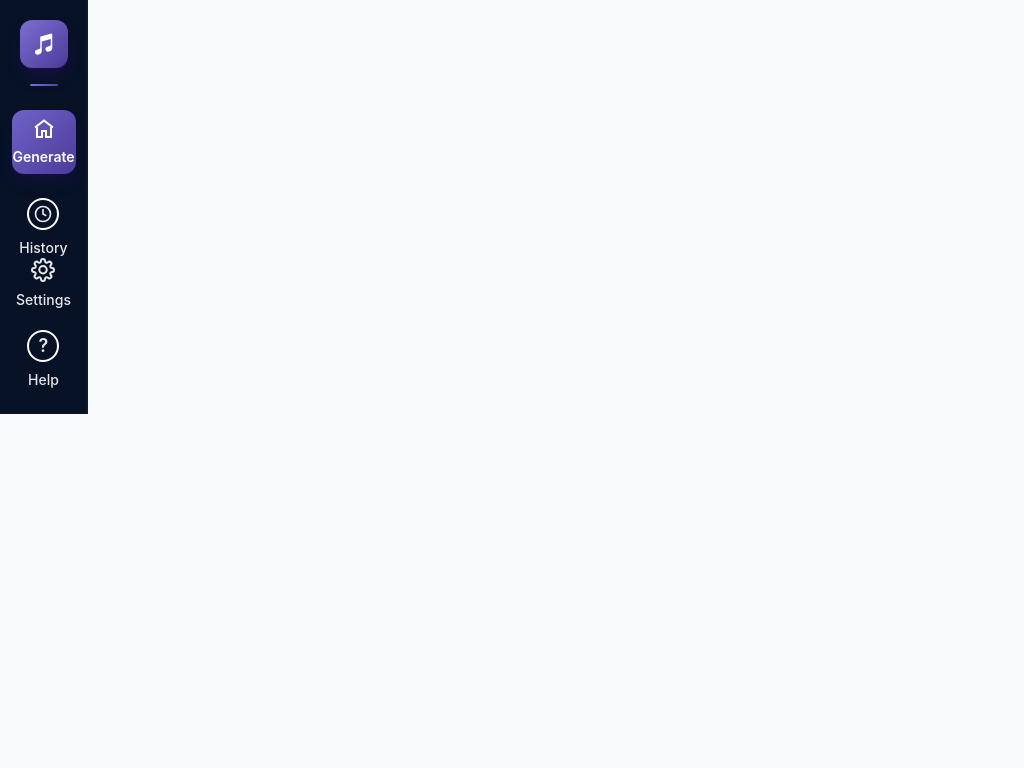
Test case: AudioSidebar › opens the help modal when Help button is clicked
The image size is (1024, 768).
What coordinates should you click on to do the following:
click the button "? Help"
I would click on:
 (44, 360)
Its box is top-left (28, 330), bottom-right (60, 390).
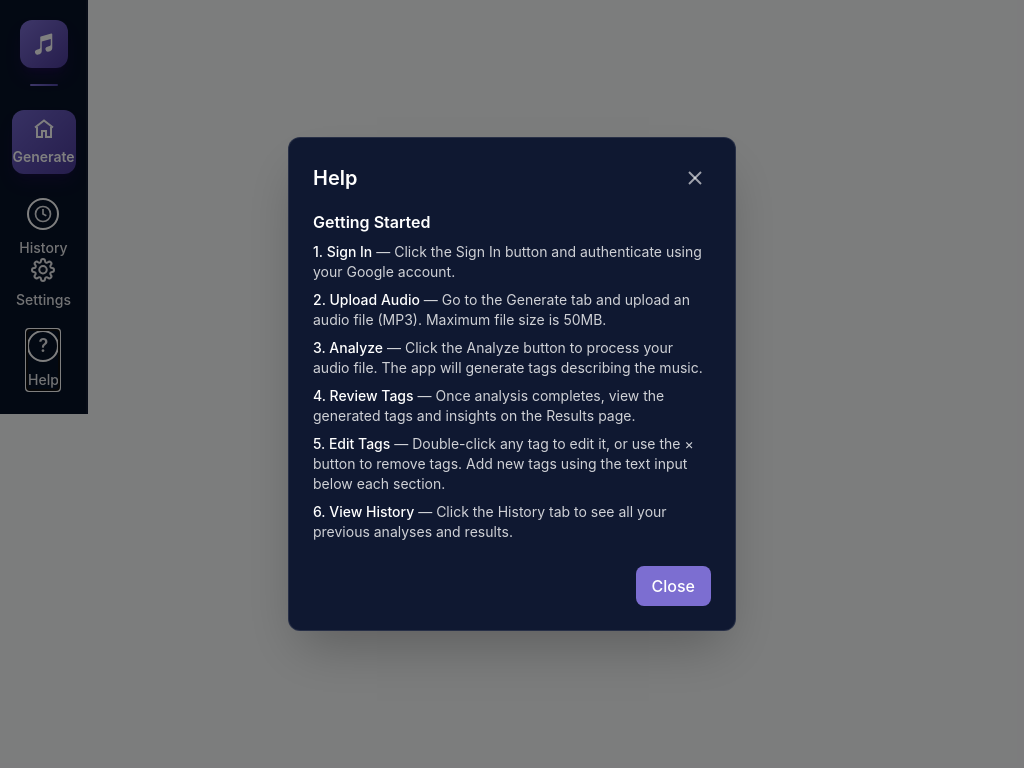
Result: the heading "Help" is shown at top-left (313, 164), bottom-right (358, 192)
